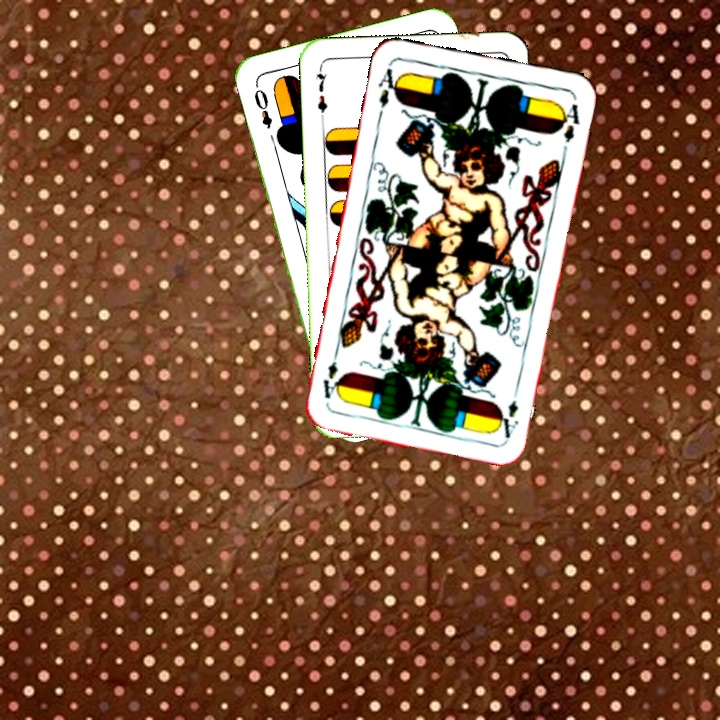E7: (311, 63, 330, 122)
EA: (496, 382, 522, 441), (374, 62, 403, 111)
EO: (250, 80, 275, 131)
